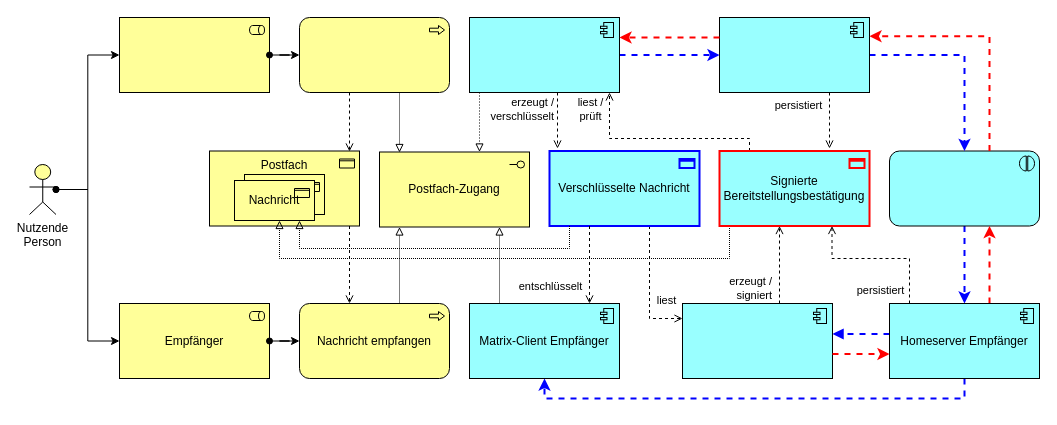
Image size: 1057x425. Some labels were removed from this diagram. The centre of each missing label's shape, as x and y in pixels:
"Absender" goes at (194,54).
"Homeserver Absender" goes at (794,54).
"Matrix Federation" goes at (964,188).
"Matrix-Client Absender" goes at (544,54).
"Nachricht senden" goes at (374,54).
"Quittungsdienst" goes at (757,340).
